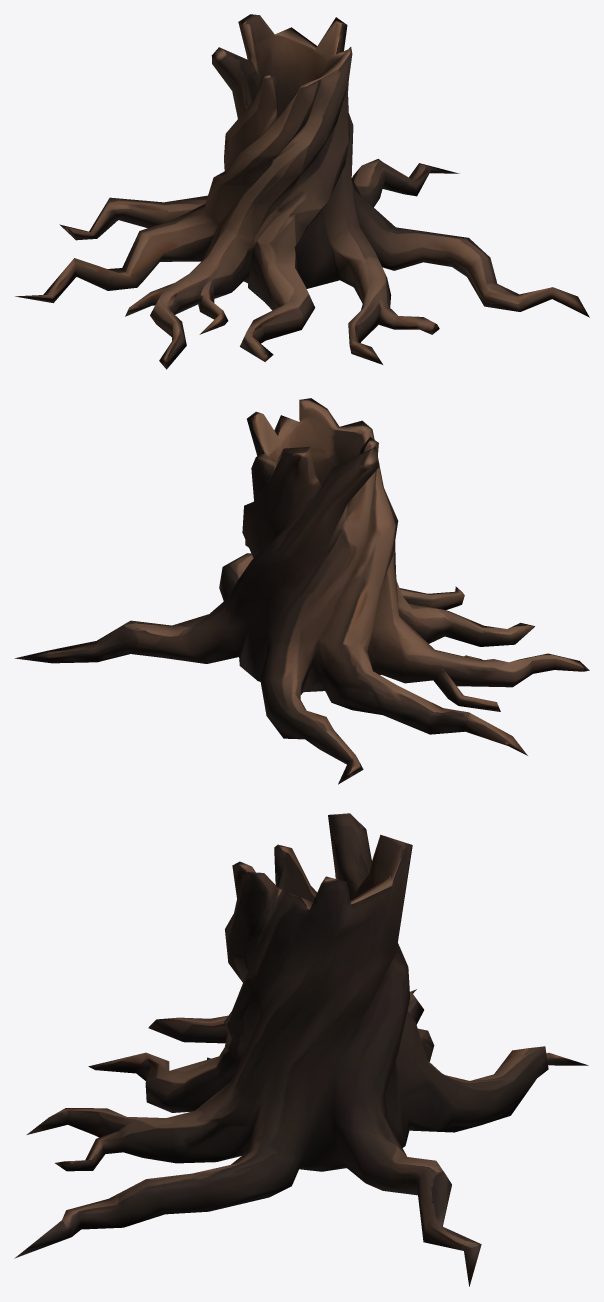
Rendered from Oak_tree.glb.
3 views of the same model, one above another, from view 1: azimuth 30°, elevation 25°; view 2: azimuth 150°, elevation 25°; view 3: azimuth 270°, elevation 25° (orthographic). The views are drawn at different scales.
Visible parts, largest first — view 1: tripo_node_7de51fbe-b3eb-41e8-8070-8828572a99a3; view 2: tripo_node_7de51fbe-b3eb-41e8-8070-8828572a99a3; view 3: tripo_node_7de51fbe-b3eb-41e8-8070-8828572a99a3.
Boxes of the visible parts, x1,y1,x2,y2 form: tripo_node_7de51fbe-b3eb-41e8-8070-8828572a99a3: (15, 14, 589, 369); tripo_node_7de51fbe-b3eb-41e8-8070-8828572a99a3: (14, 398, 589, 784); tripo_node_7de51fbe-b3eb-41e8-8070-8828572a99a3: (14, 813, 588, 1286).
Bounding box in the file's own units: 0.9598 × 0.4695 × 0.8041.
Materials: 1 (1 with a texture image).
